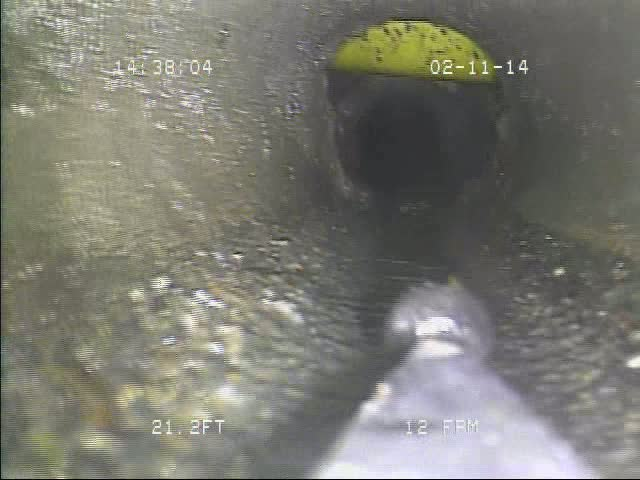cb: (307, 14, 537, 90)
